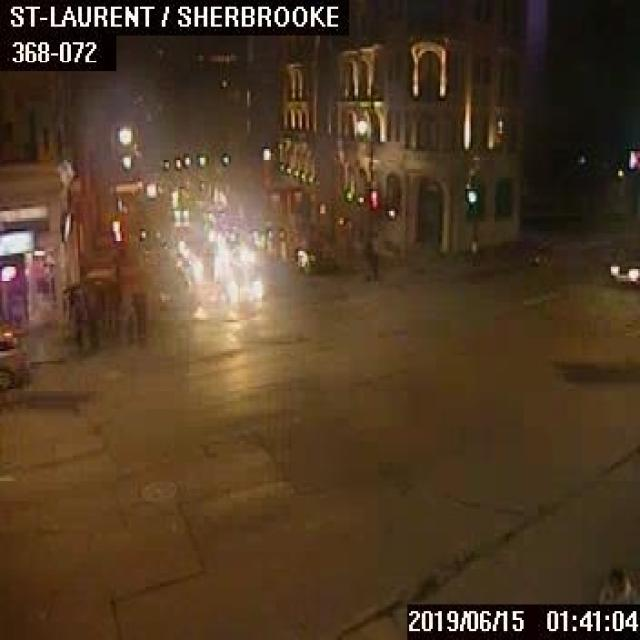pedestrian: (596, 564, 638, 604), (68, 294, 83, 352), (364, 230, 377, 282), (135, 284, 146, 338)
vehicle: (0, 320, 31, 389), (288, 230, 333, 270), (606, 251, 638, 285)
